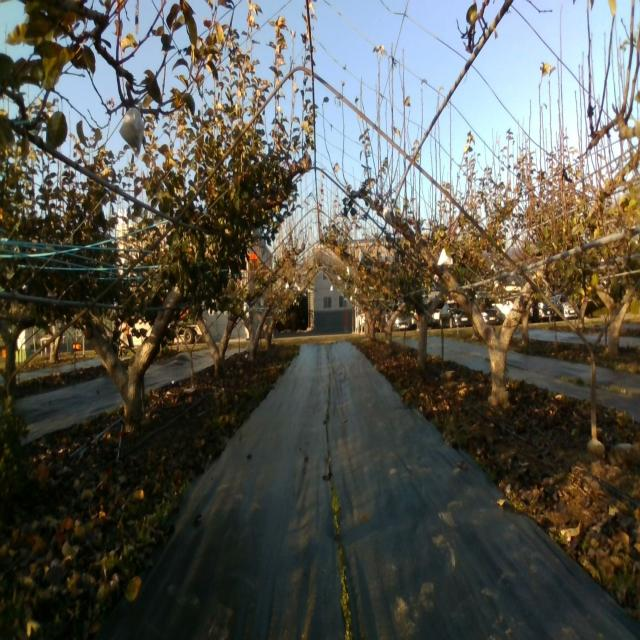pearbags: (119, 101, 144, 160), (437, 248, 453, 266), (382, 206, 392, 224)
